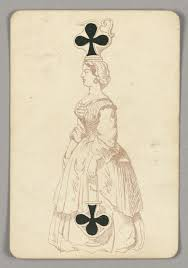two of clubs: (12, 11, 178, 258)
